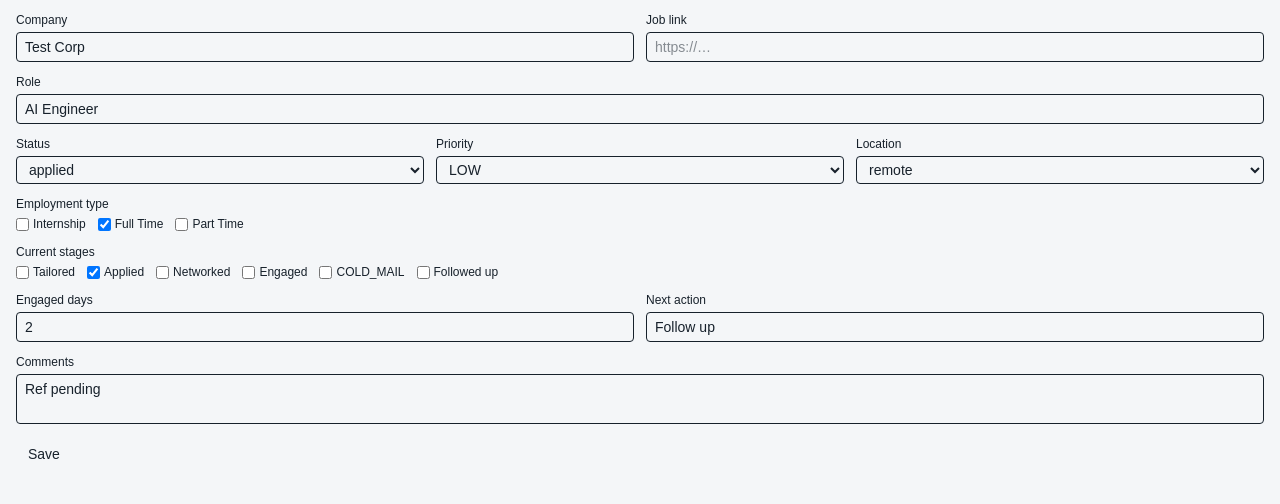
Test: ApplicationForm › blocks a redundant categorical update and shows the message
Re-select the same priority value — a no-op categorical update.
Select "LOW" in the dropdown showing "LOW" below "Priority" at x=640, y=170, box top-left (436, 156), bottom-right (844, 184)
Submit the form named "Save"
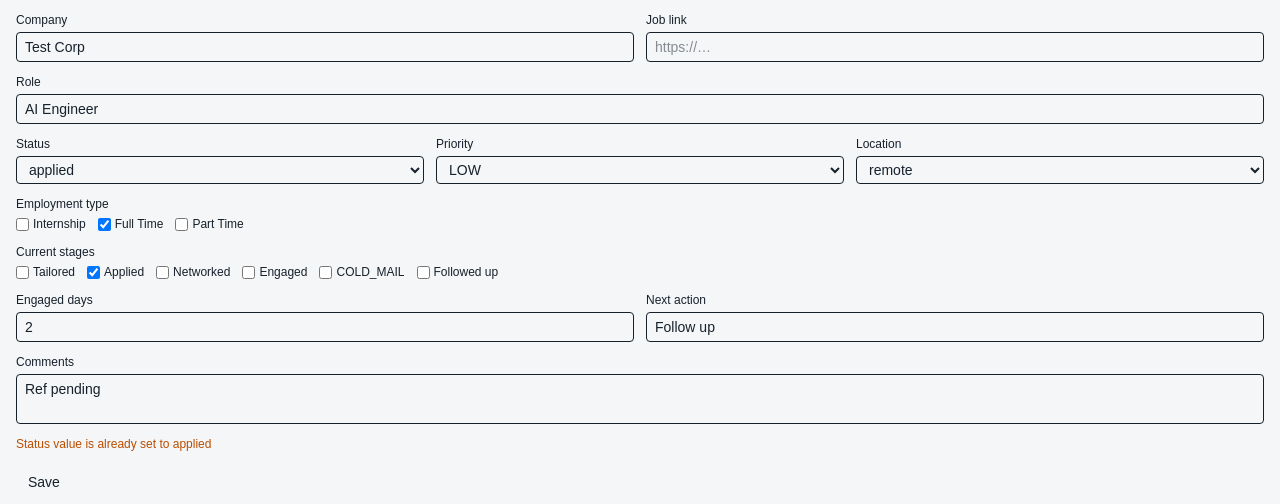
expect the text "Status value is already set to applied" is shown: met, box top-left (16, 437), bottom-right (212, 451)
